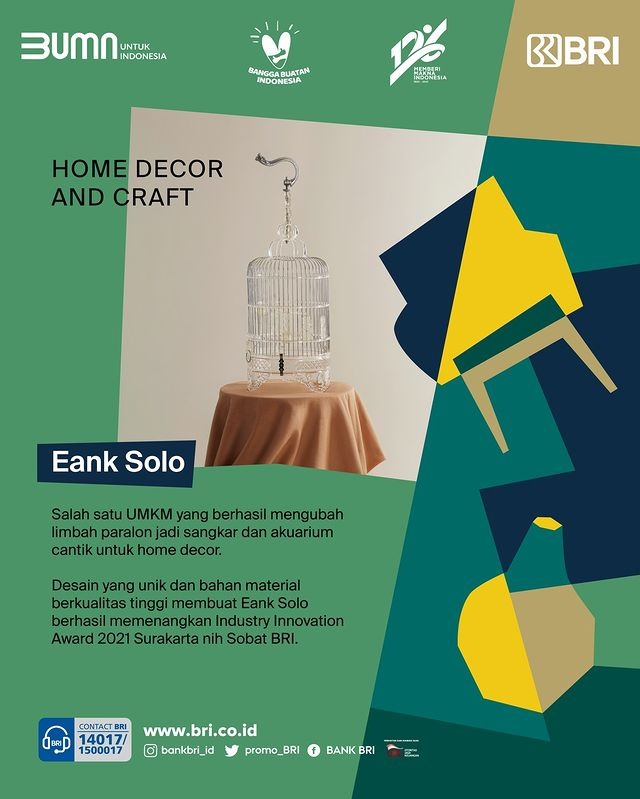ojk: (384, 742, 426, 761)
